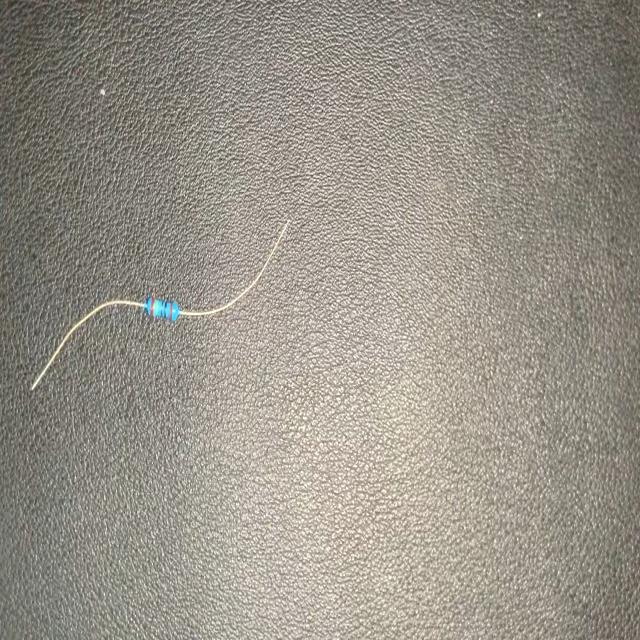resistor: (32, 220, 289, 386)
